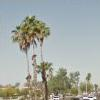Palm tree: (5, 8, 68, 82)
